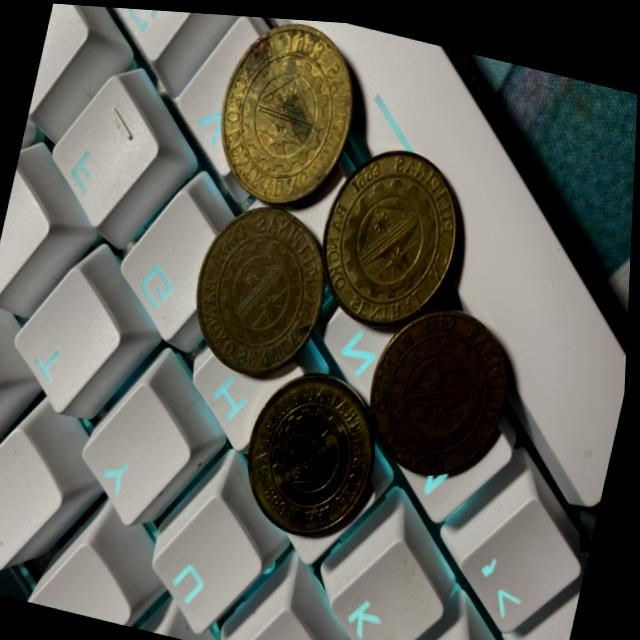25Cent_Old_Back: (208, 11, 362, 210), (313, 135, 466, 319), (186, 188, 339, 369), (242, 361, 386, 543), (368, 316, 498, 460)
